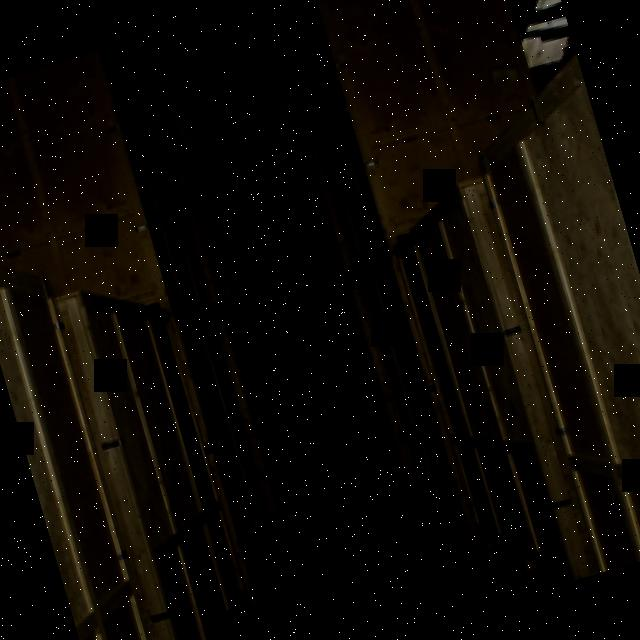box: (453, 57, 640, 575), (39, 263, 288, 640), (376, 177, 597, 592), (285, 0, 559, 257), (0, 39, 213, 365), (0, 239, 173, 640)
